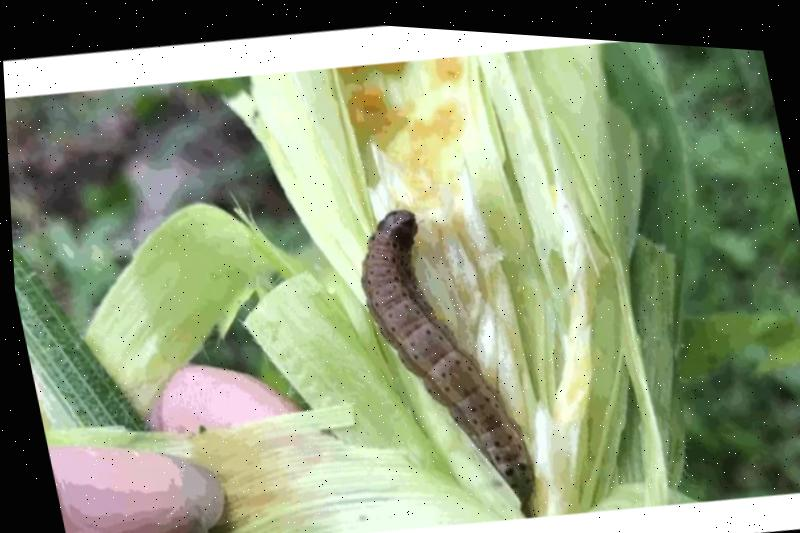fall-armyworm: (358, 204, 531, 497)
